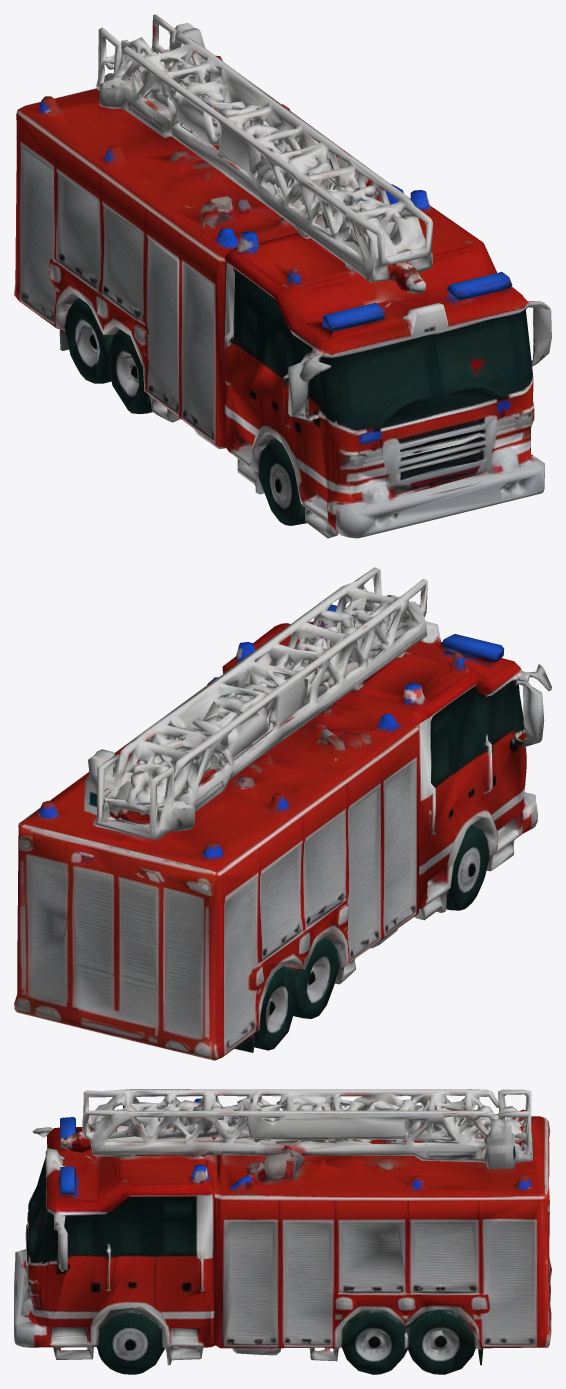
The model's file is fire-truck.glb.
3 views of the same model, one above another, from view 1: azimuth 30°, elevation 25°; view 2: azimuth 150°, elevation 25°; view 3: azimuth 270°, elevation 25° (orthographic). The views are drawn at different scales.
Visible parts, largest first — view 1: material; view 2: material; view 3: material.
Part boxes in pixels (box(x1,y1,x2,y2)): material: box(14, 14, 551, 538); material: box(14, 567, 551, 1060); material: box(14, 1089, 551, 1374).
Size of the model in its own units: 0.4783 by 0.5279 by 1.08.
Materials: 1 (1 with a texture image).
